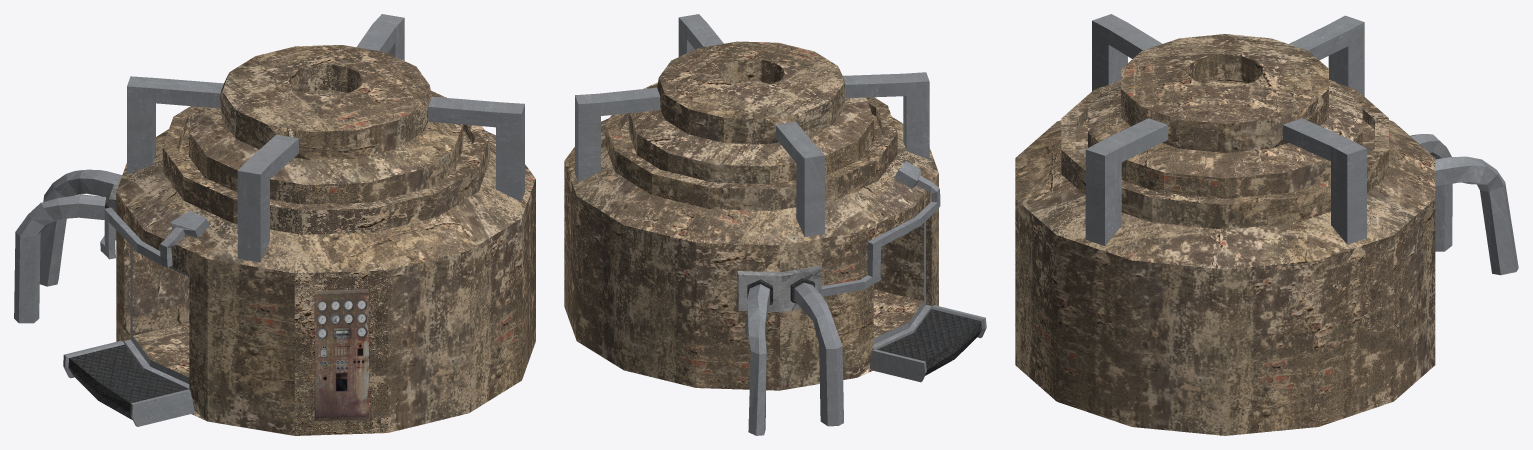
File: smelting_tank.FBX
3 renders of one model, left to right at view 1: azimuth 30°, elevation 25°; view 2: azimuth 150°, elevation 25°; view 3: azimuth 270°, elevation 25°, orthographic. The views are drawn at different scales.
Parts seen in each view (by area): view 1: smelting_tank; view 2: smelting_tank; view 3: smelting_tank.
Boxes of the visible parts, x1,y1,x2,y2 form: smelting_tank: (14, 14, 535, 435); smelting_tank: (564, 14, 986, 435); smelting_tank: (1015, 14, 1518, 435).
Bounding box in the file's own units: 189 × 117 × 195.
Materials: 5 (5 with a texture image).
